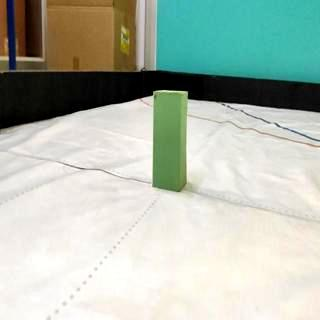greenbox: (150, 88, 188, 193)
